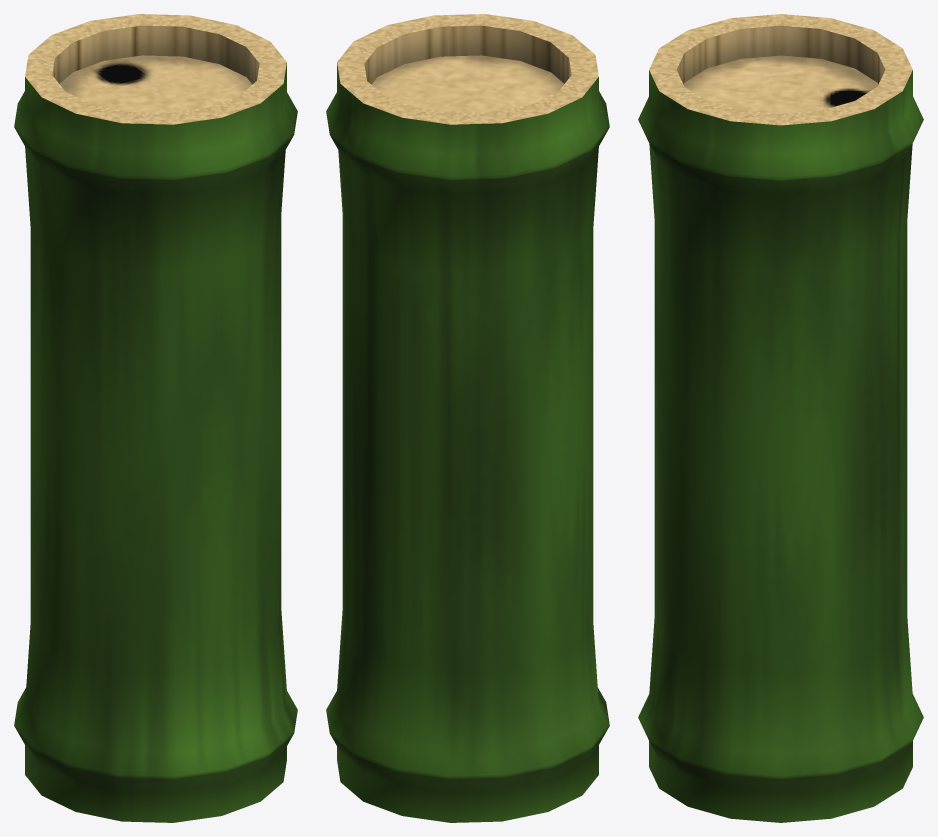
Rendered from Bamboo water bottle1-2.fbx.
3 renders of one model, left to right at view 1: azimuth 30°, elevation 25°; view 2: azimuth 150°, elevation 25°; view 3: azimuth 270°, elevation 25°, orthographic.
Parts seen in each view (by area): view 1: obj1; view 2: obj1; view 3: obj1.
Boxes of the visible parts, x1,y1,x2,y2 form: obj1: [14, 14, 297, 822]; obj1: [326, 14, 609, 822]; obj1: [638, 14, 923, 822].
Bounding box in the file's own units: 13 × 35 × 13.
